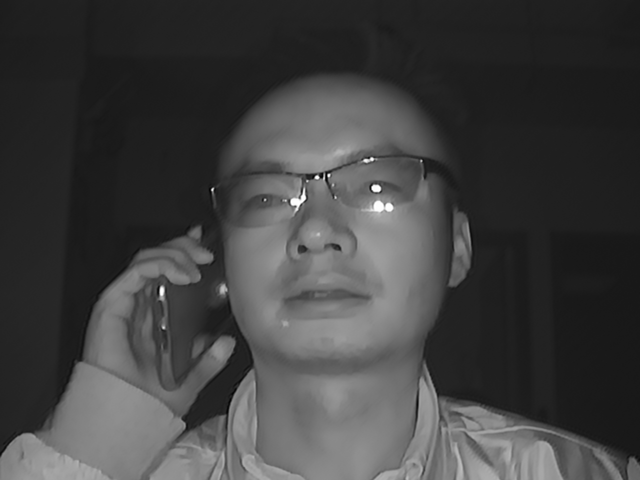hand: (94, 233, 213, 408)
